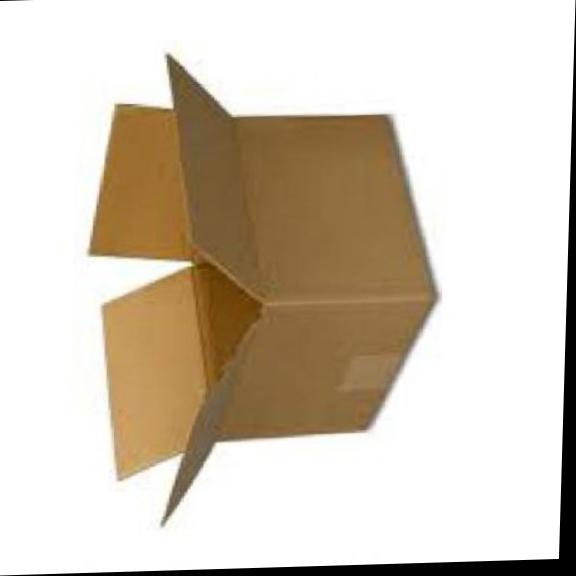Kertas: (90, 57, 433, 520)
